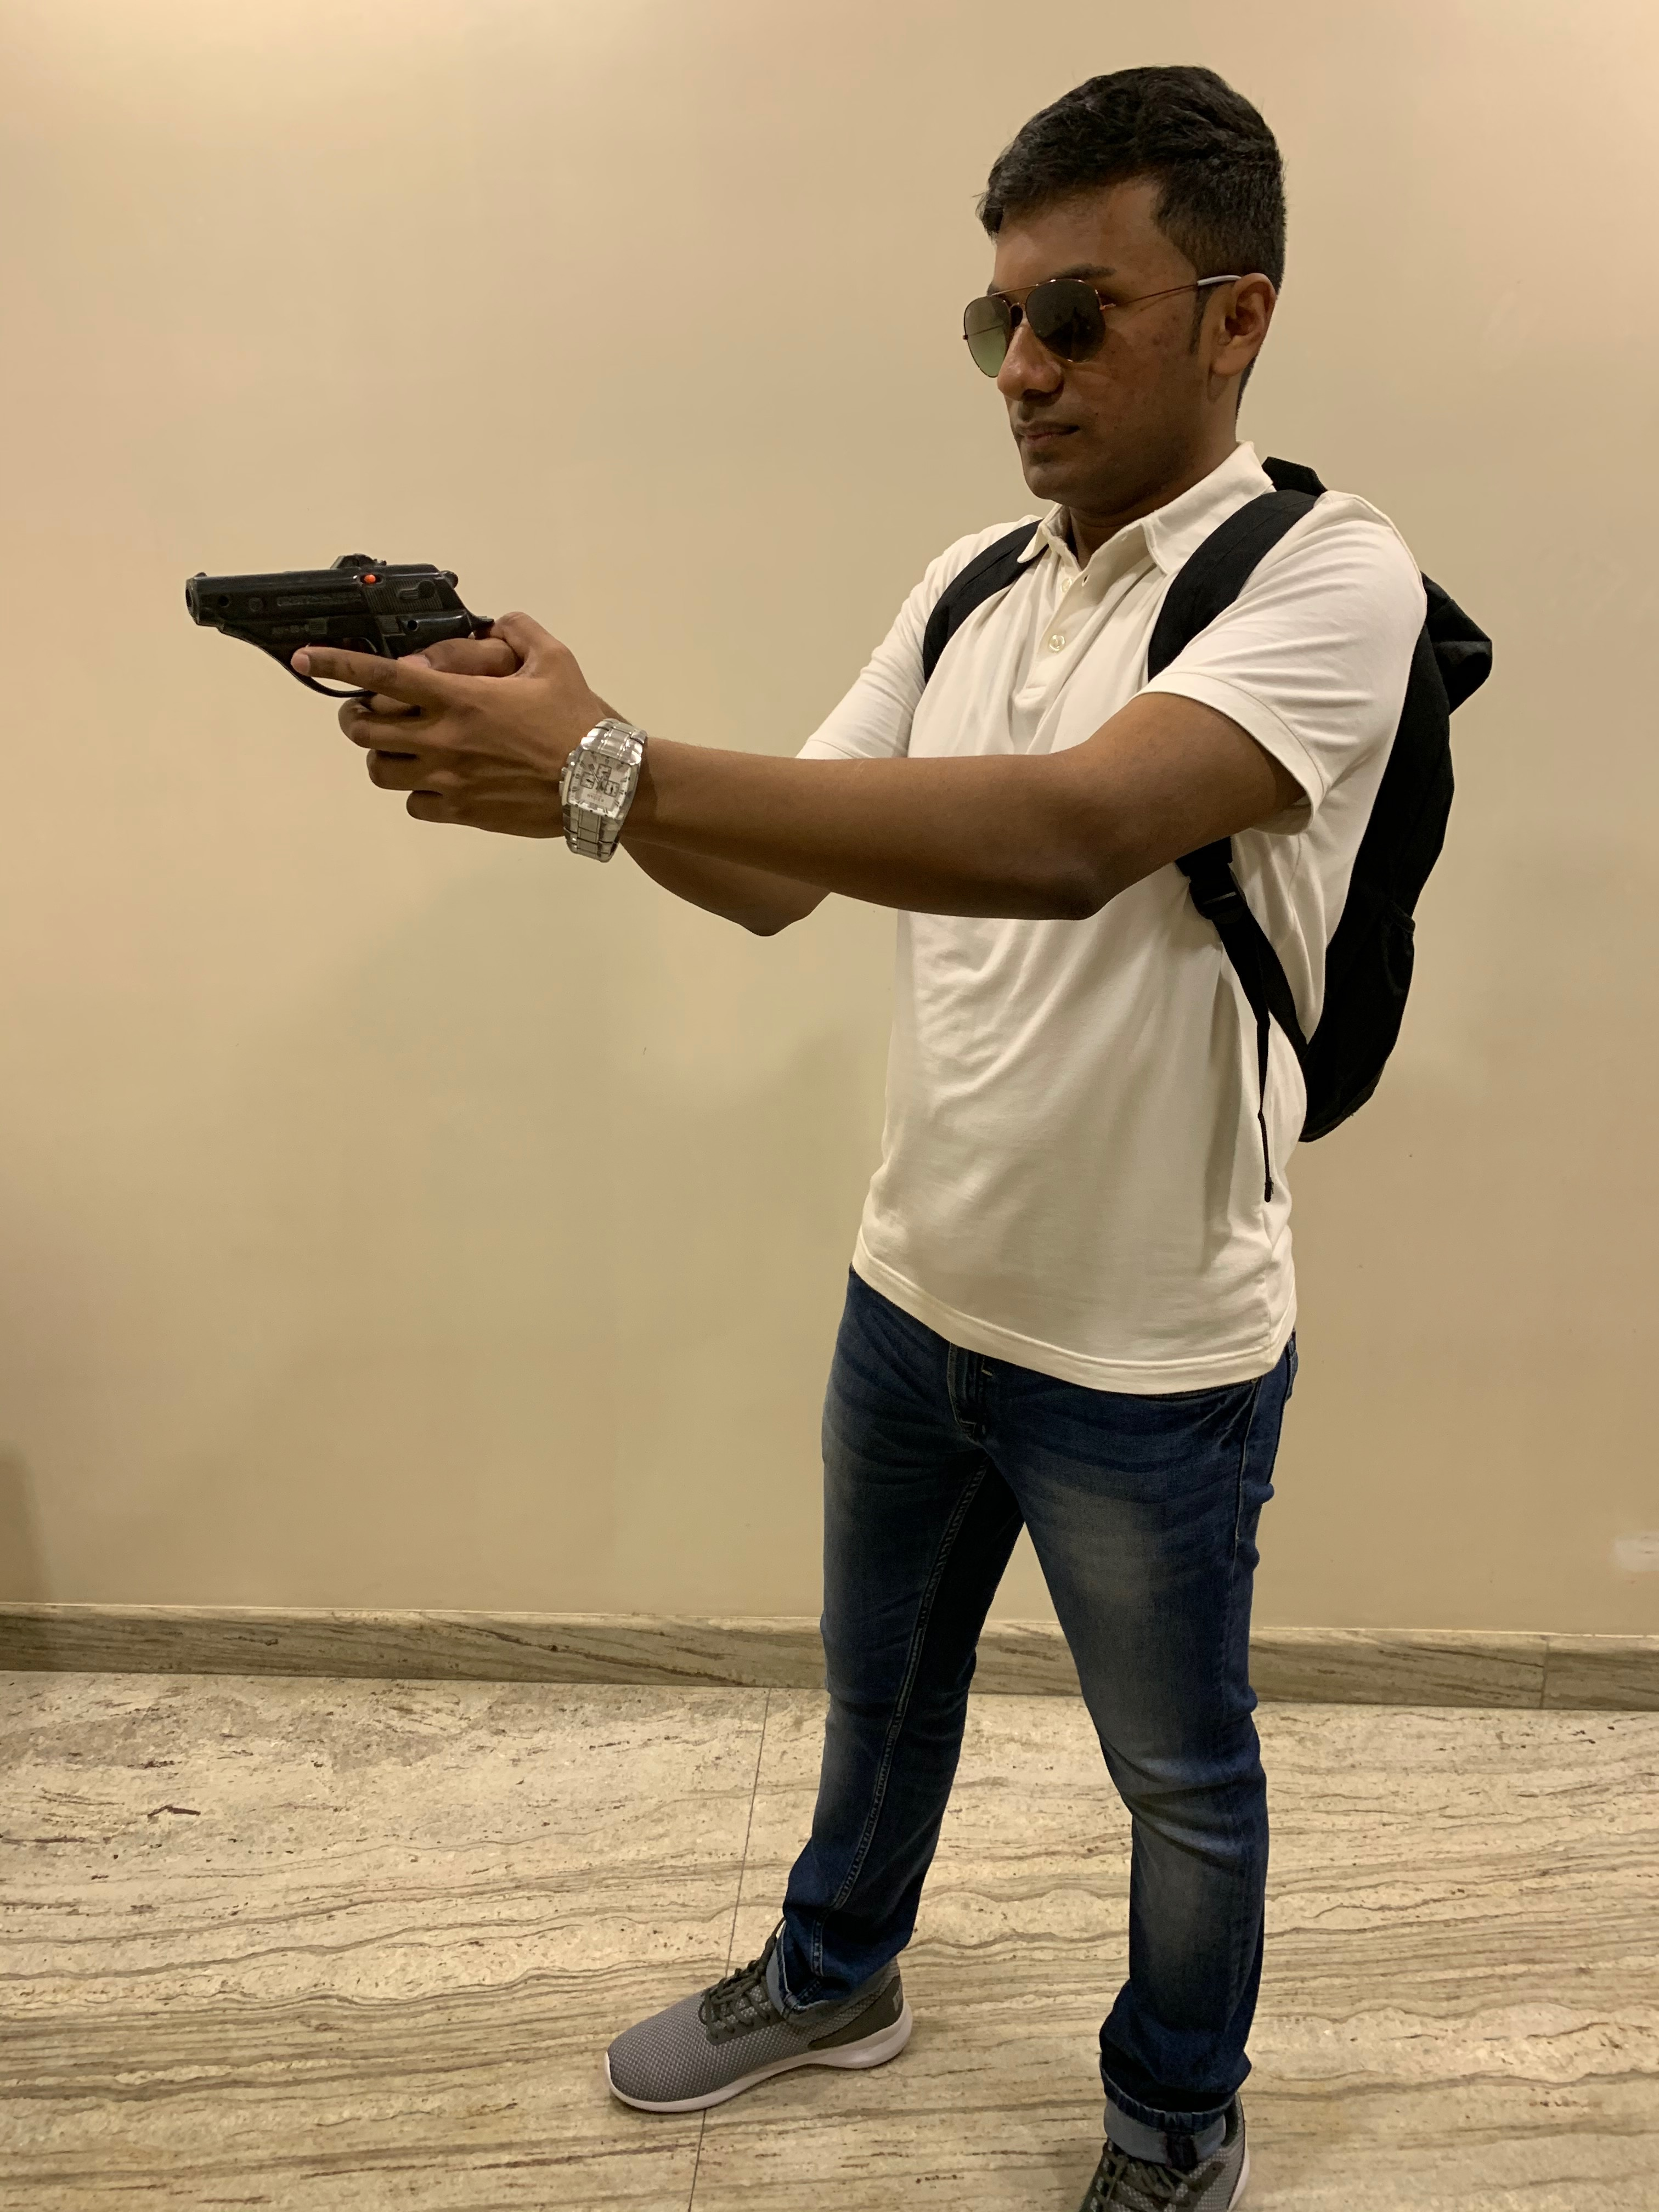gun: (178, 545, 507, 711)
